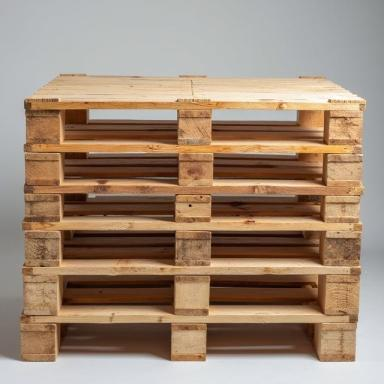pallet: (24, 74, 366, 145), (22, 266, 361, 316), (20, 315, 358, 362), (21, 222, 363, 267), (23, 144, 364, 186), (24, 185, 365, 223)
